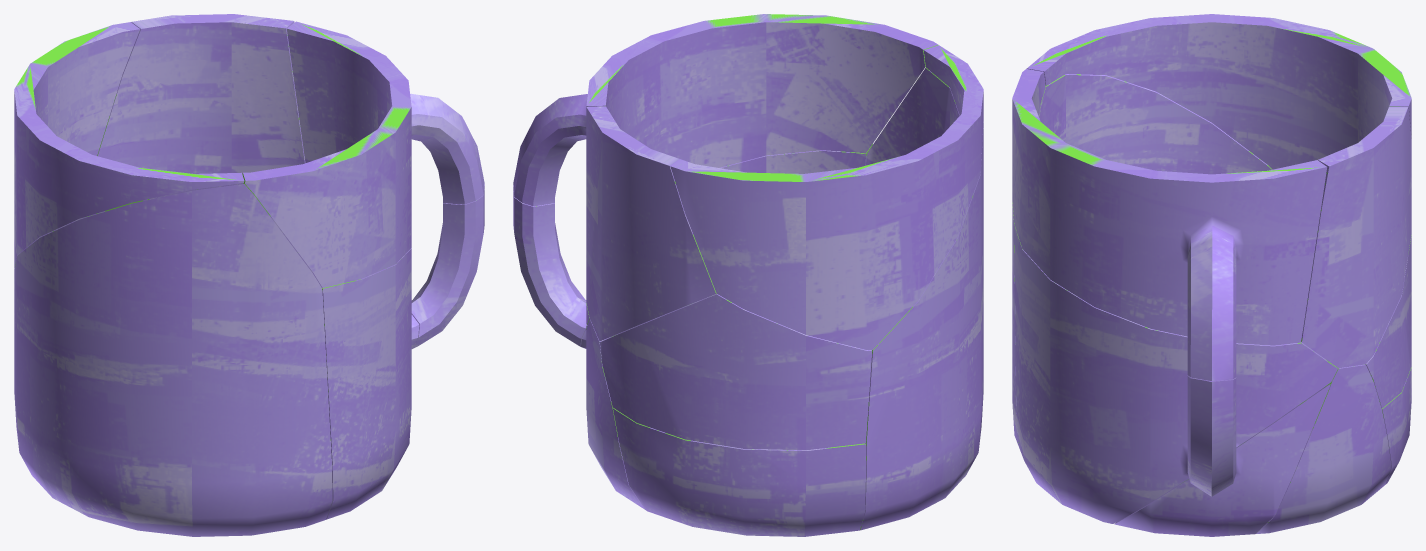
File: PurpleMug.obj
3 views of the same model, side by side, from view 1: azimuth 30°, elevation 25°; view 2: azimuth 150°, elevation 25°; view 3: azimuth 270°, elevation 25° (orthographic).
Parts seen in each view (by area): view 1: PurpleMug_cell.006, PurpleMug_cell.005, PurpleMug_cell.008, PurpleMug_cell.001, PurpleMug_cell.009, PurpleMug_cell.003; view 2: PurpleMug_cell.001, PurpleMug_cell.005, PurpleMug_cell, PurpleMug_cell.006, PurpleMug_cell.007, PurpleMug_cell.008, PurpleMug_cell.003, PurpleMug_cell.002, PurpleMug_cell.009; view 3: PurpleMug_cell.005, PurpleMug_cell.009, PurpleMug_cell.001, PurpleMug_cell.008, PurpleMug_cell.006, PurpleMug_cell.002, PurpleMug_cell.004, PurpleMug_cell.003, PurpleMug_cell, PurpleMug_cell.007.
Boxes of the visible parts, left/top/right/bottom form: PurpleMug_cell.006: left=14, top=184, right=332, bottom=536; PurpleMug_cell.005: left=242, top=21, right=484, bottom=287; PurpleMug_cell.008: left=97, top=14, right=305, bottom=173; PurpleMug_cell.001: left=14, top=22, right=244, bottom=268; PurpleMug_cell.009: left=322, top=248, right=419, bottom=519; PurpleMug_cell.003: left=411, top=183, right=484, bottom=348; PurpleMug_cell.001: left=670, top=45, right=983, bottom=350; PurpleMug_cell.005: left=513, top=14, right=938, bottom=206; PurpleMug_cell: left=599, top=294, right=872, bottom=450; PurpleMug_cell.006: left=860, top=67, right=983, bottom=530; PurpleMug_cell.007: left=613, top=408, right=865, bottom=536; PurpleMug_cell.008: left=586, top=106, right=716, bottom=341; PurpleMug_cell.003: left=513, top=185, right=586, bottom=348; PurpleMug_cell.002: left=586, top=319, right=644, bottom=509; PurpleMug_cell.009: left=586, top=144, right=872, bottom=334; PurpleMug_cell.005: left=1012, top=69, right=1327, bottom=381; PurpleMug_cell.009: left=1014, top=225, right=1337, bottom=523; PurpleMug_cell.001: left=1026, top=14, right=1411, bottom=169; PurpleMug_cell.008: left=1301, top=106, right=1411, bottom=368; PurpleMug_cell.006: left=1012, top=74, right=1271, bottom=445; PurpleMug_cell.002: left=1256, top=364, right=1391, bottom=533; PurpleMug_cell.004: left=1114, top=384, right=1330, bottom=536; PurpleMug_cell.003: left=1187, top=376, right=1236, bottom=496; PurpleMug_cell: left=1365, top=235, right=1411, bottom=408; PurpleMug_cell.007: left=1382, top=367, right=1411, bottom=484.
Size of the model in its own units: 1.33 by 1.03 by 1.04.
